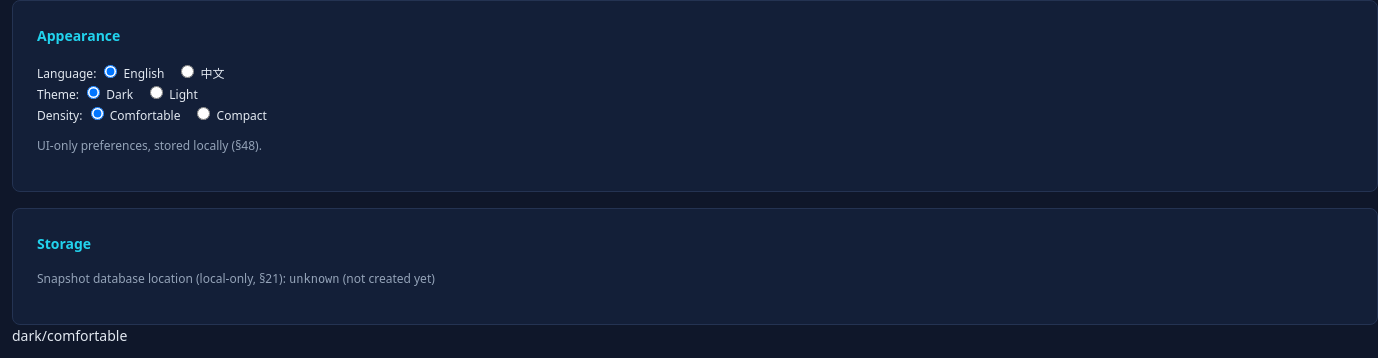
it: SettingsPage (M12 §48/§11) › language switch translates nav-adjacent labels and persists (§240/§241)
Click the text "中文".
click(200, 74)  # box [176,65,224,82]
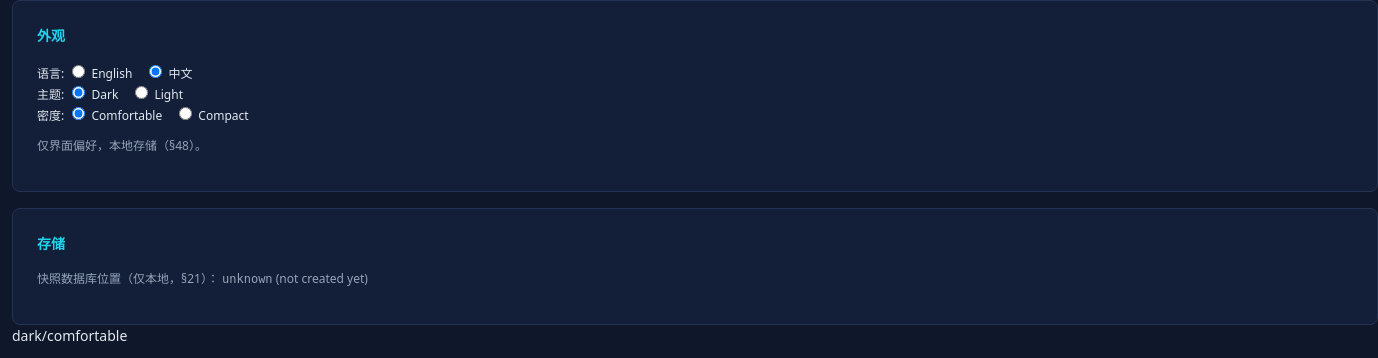
Expected: the text "语言:" is shown, [37,65,67,82]
